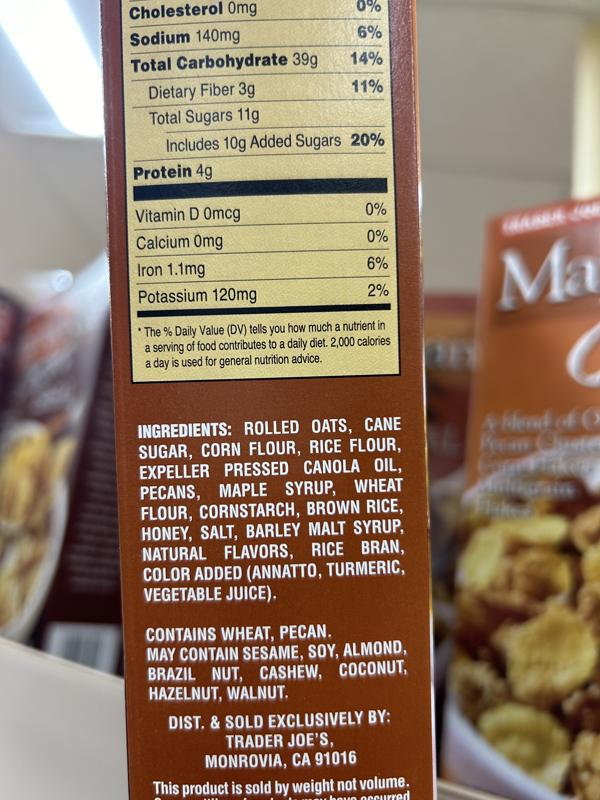ingredients: (132, 413, 408, 607)
